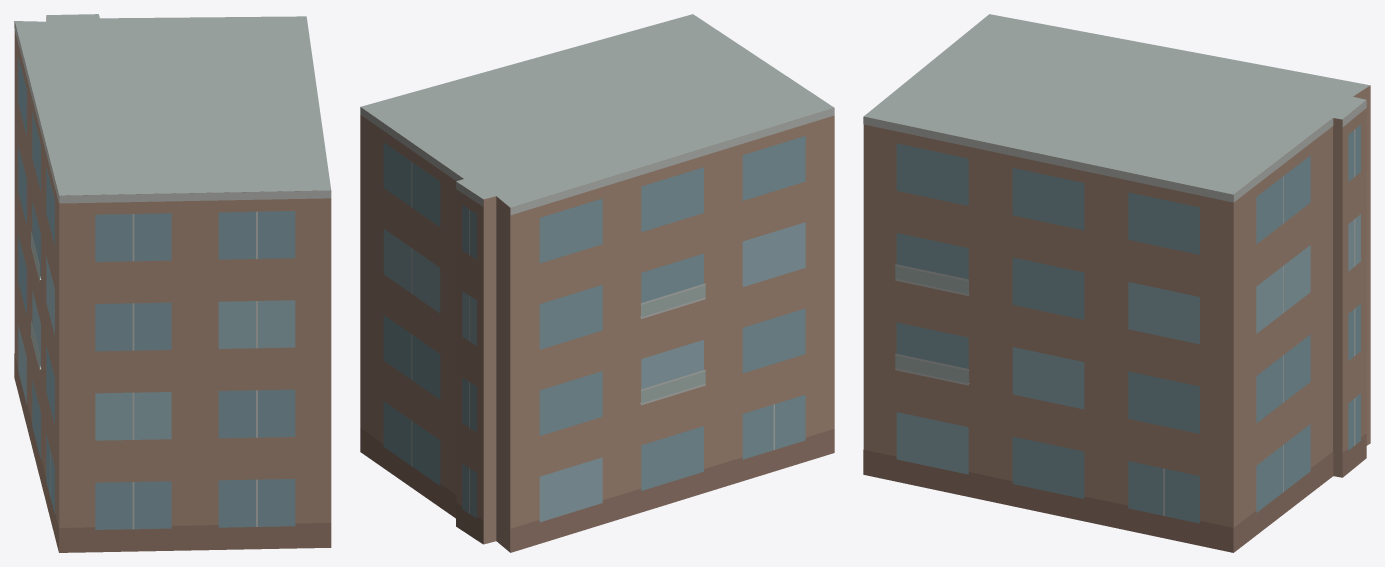
Rendered from survey-upis-32727149.glb.
The picture shows the model from 3 angles, left to right: view 1: azimuth 30°, elevation 25°; view 2: azimuth 150°, elevation 25°; view 3: azimuth 270°, elevation 25°; orthographic projection. The views are drawn at different scales.
Visible parts, largest first — view 1: survey-upis-32727149.tmp; view 2: survey-upis-32727149.tmp; view 3: survey-upis-32727149.tmp.
Boxes of the visible parts, x1,y1,x2,y2 form: survey-upis-32727149.tmp: (14,14,331,552); survey-upis-32727149.tmp: (360,14,834,552); survey-upis-32727149.tmp: (863,14,1370,552).
Size of the model in its own units: 11.91 by 11 by 14.12.
